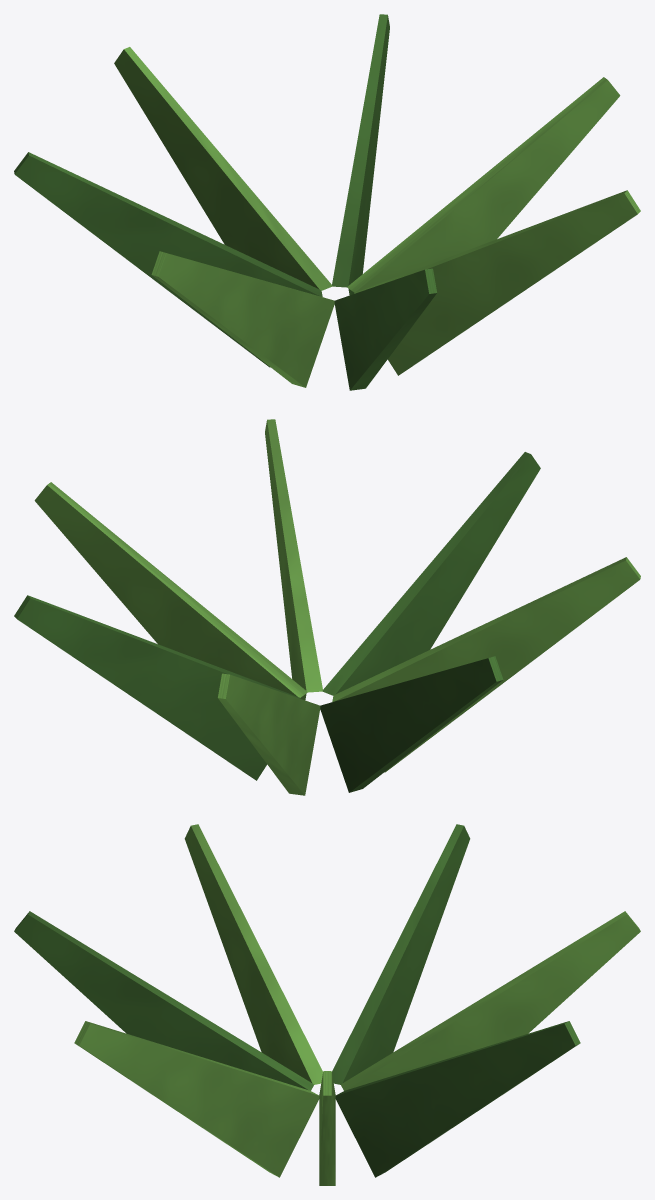
File: fern_01.glb
The picture shows the model from 3 angles, top to bottom: view 1: azimuth 30°, elevation 25°; view 2: azimuth 150°, elevation 25°; view 3: azimuth 270°, elevation 25°; orthographic projection.
Visible parts, largest first — view 1: fern_01; view 2: fern_01; view 3: fern_01.
Part boxes in pixels (x1=…): fern_01: x1=14, y1=14, x2=640, y2=390; fern_01: x1=14, y1=419, x2=640, y2=795; fern_01: x1=14, y1=824, x2=640, y2=1185.
Bounding box in the file's own units: 1.47 × 0.5735 × 1.51.
Materials: 1 (1 with a texture image).
